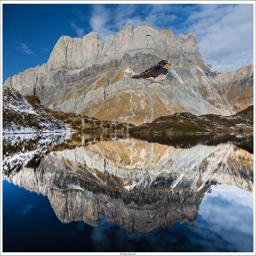Swallow: (131, 59, 171, 84)
